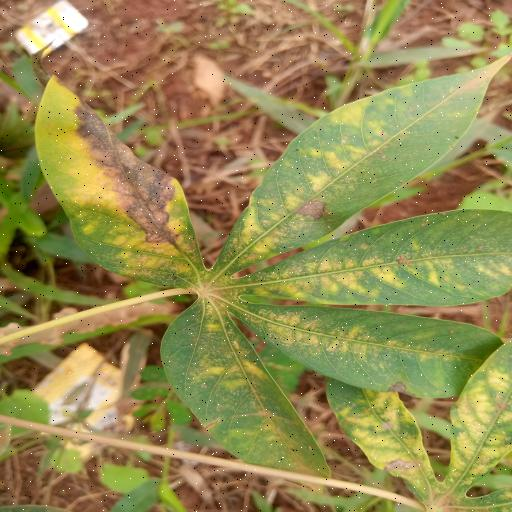Cassava_Mosaic: (28, 60, 512, 484)
